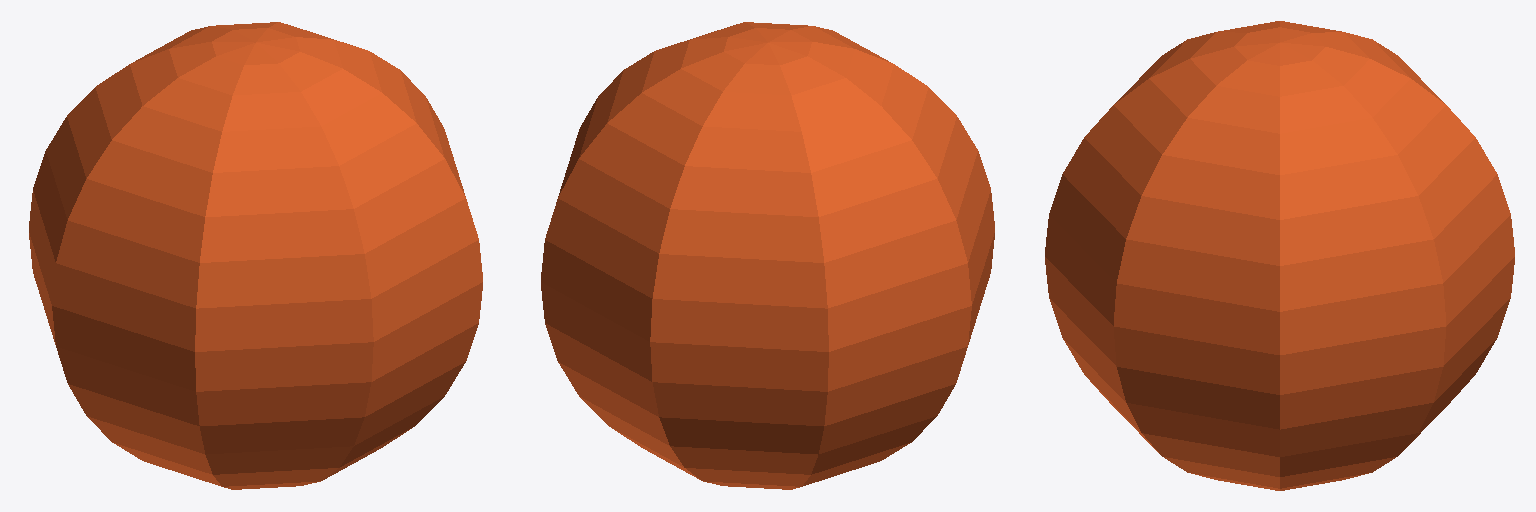
File: sun.obj
3 views of the same model, side by side, from view 1: azimuth 30°, elevation 25°; view 2: azimuth 150°, elevation 25°; view 3: azimuth 270°, elevation 25° (orthographic).
Visible parts, largest first — view 1: Sphere.001_Sphere.002; view 2: Sphere.001_Sphere.002; view 3: Sphere.001_Sphere.002.
Boxes of the visible parts, x1=… form: Sphere.001_Sphere.002: x1=29, y1=22, x2=482, y2=489; Sphere.001_Sphere.002: x1=541, y1=22, x2=994, y2=489; Sphere.001_Sphere.002: x1=1045, y1=21, x2=1514, y2=490.
Size of the model in its own units: 4.14 by 4.14 by 4.14.